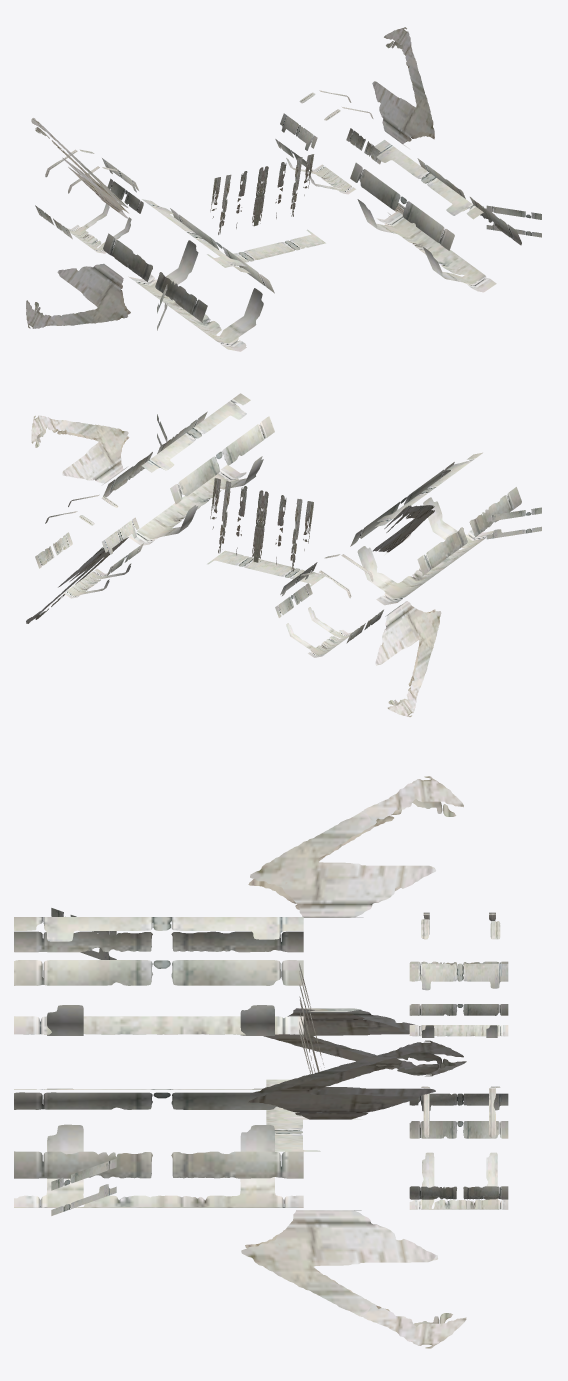
File: awing_engine_s02_l1.fbx
The picture shows the model from 3 angles, top to bottom: view 1: azimuth 30°, elevation 25°; view 2: azimuth 150°, elevation 25°; view 3: azimuth 270°, elevation 25°; orthographic projection. The views are drawn at different scales.
Visible parts, largest first — view 1: mesh_node; view 2: mesh_node; view 3: mesh_node.
Boxes of the visible parts, x1,y1,x2,y2 form: mesh_node: (26, 27, 541, 351); mesh_node: (26, 393, 541, 717); mesh_node: (14, 776, 508, 1348).
Bounding box in the file's own units: 7.94 × 4.36 × 6.45.
Materials: 1 (1 with a texture image).
